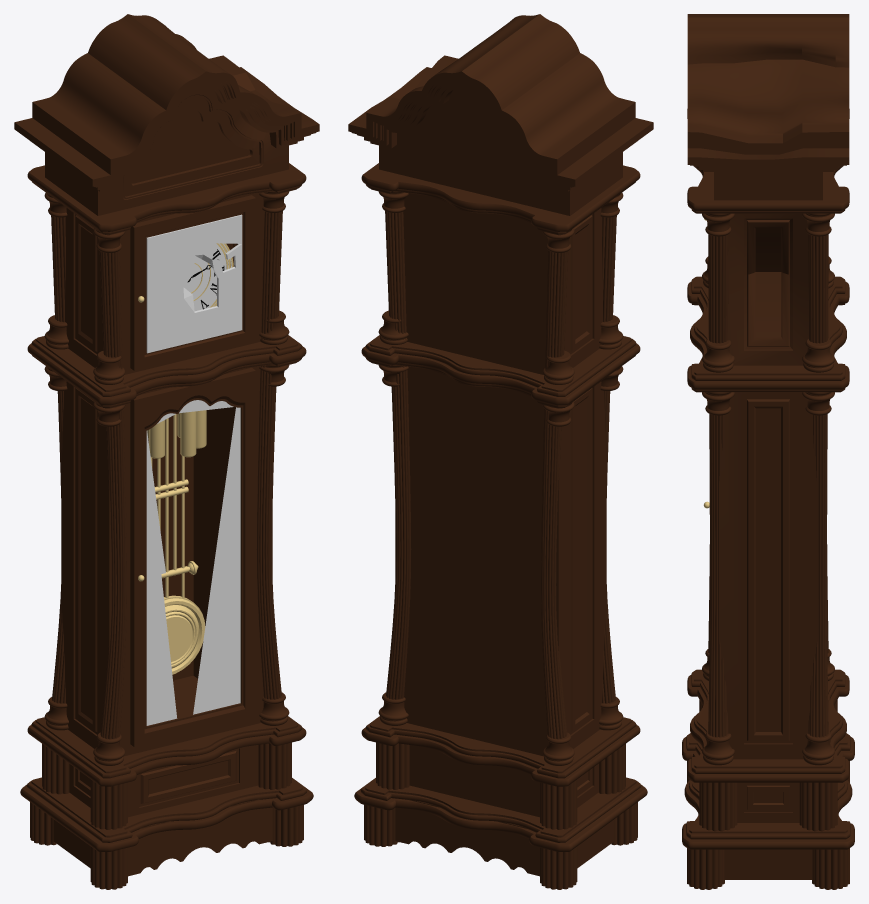
The model's file is clockww.fbx.
The picture shows the model from 3 angles, left to right: view 1: azimuth 30°, elevation 25°; view 2: azimuth 150°, elevation 25°; view 3: azimuth 270°, elevation 25°; orthographic projection. The views are drawn at different scales.
Parts seen in each view (by area): view 1: clock, window.001, clock.001, pendulum, disk; view 2: clock; view 3: clock.
Part boxes in pixels (<box>): clock: <box>14,14,319,889</box>; window.001: <box>130,367,255,746</box>; clock.001: <box>146,214,242,353</box>; pendulum: <box>150,414,205,674</box>; disk: <box>184,243,233,311</box>; clock: <box>348,14,653,889</box>; clock: <box>682,14,854,889</box>.
Bounding box in the file's own units: 64.64 × 217 × 41.4.
